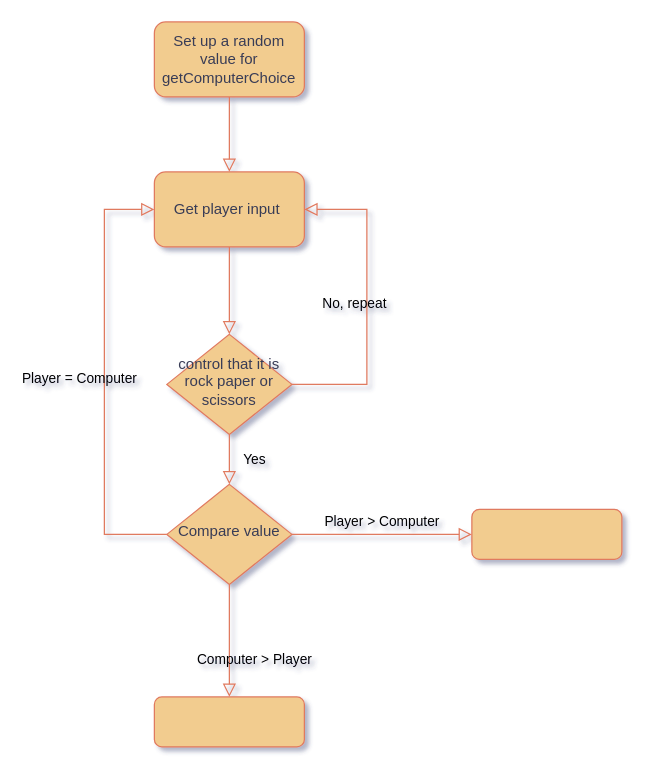
This 651x776 diagram has some shape labels left out. Here are the shapes that lost their labels. From the top down, the box of each, then its label:
(471, 508, 622, 559): Win
(153, 696, 304, 747): Lose
